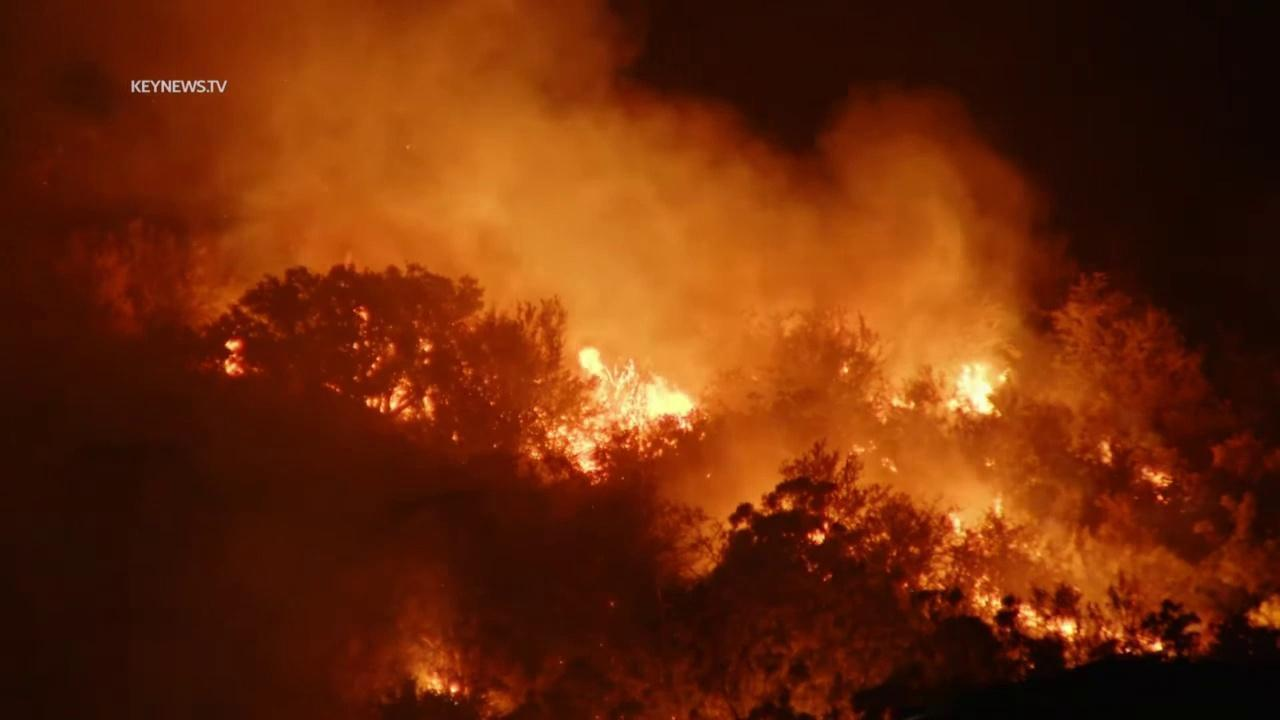fire: (524, 345, 698, 486), (319, 303, 437, 424), (968, 574, 1089, 642), (943, 355, 1013, 422), (1098, 623, 1169, 657), (217, 336, 252, 378), (420, 671, 464, 697), (1137, 463, 1176, 489), (804, 520, 836, 549), (848, 438, 882, 456), (947, 511, 968, 538), (889, 396, 918, 412), (992, 491, 1006, 521), (881, 455, 901, 475), (839, 362, 853, 377), (1154, 493, 1167, 503)
smoke: (0, 0, 1280, 720)
